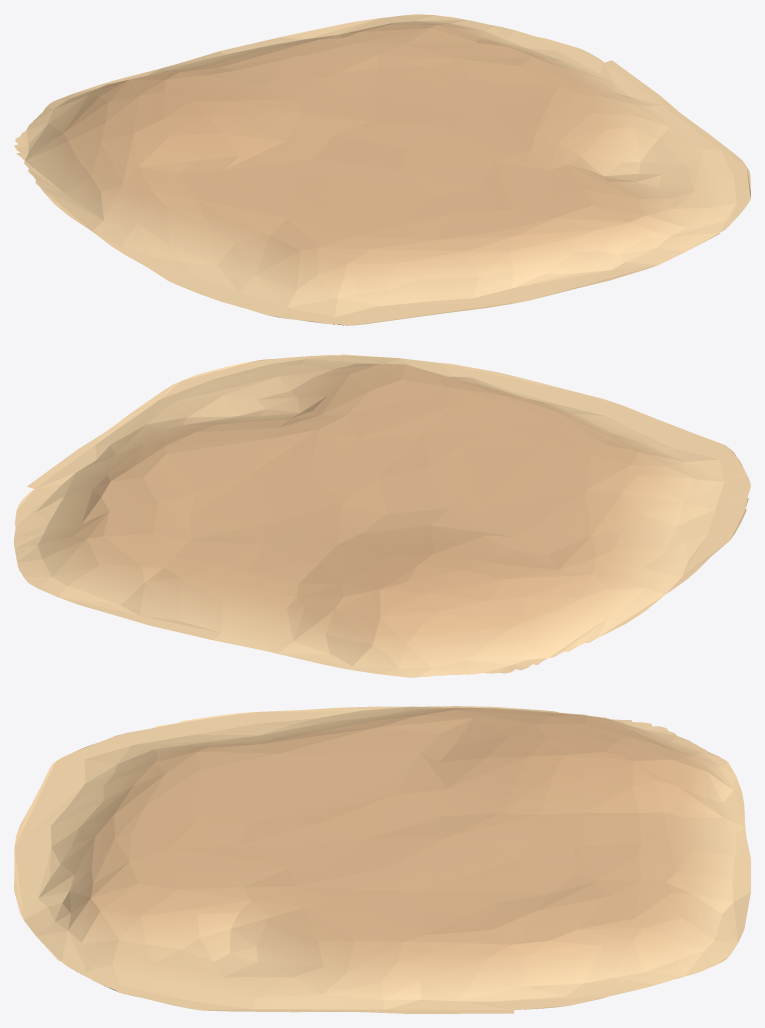
The model's file is Ground 10 M Square.glb.
3 views of the same model, one above another, from view 1: azimuth 30°, elevation 25°; view 2: azimuth 150°, elevation 25°; view 3: azimuth 270°, elevation 25° (orthographic). The views are drawn at different scales.
Parts seen in each view (by area): view 1: Ground 10 M square; view 2: Ground 10 M square; view 3: Ground 10 M square.
Part boxes in pixels (left/top/right/bottom): Ground 10 M square: left=14, top=14, right=750, bottom=325; Ground 10 M square: left=14, top=354, right=750, bottom=677; Ground 10 M square: left=14, top=706, right=750, bottom=1013.
Size of what is drawn, in the model's own units: 9.85 by 0.6562 by 9.98.
Materials: 1 (1 with a texture image).
